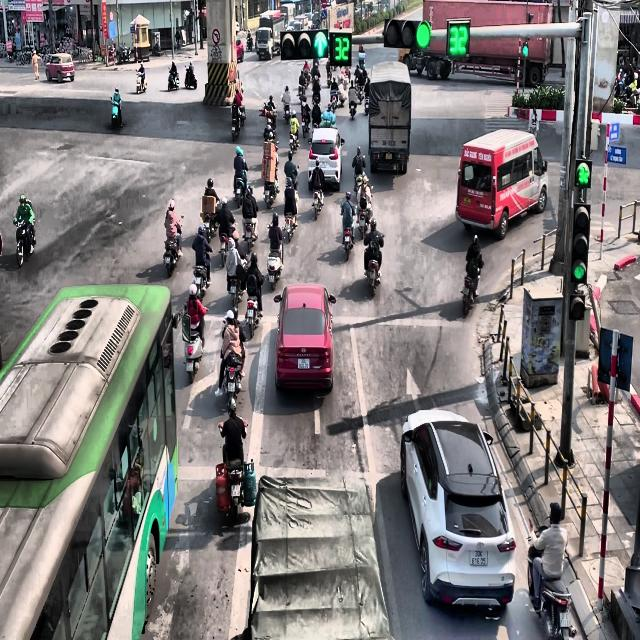lisence_plate: (469, 548, 488, 566), (558, 609, 571, 628), (297, 357, 310, 370), (382, 138, 398, 146), (463, 196, 472, 206), (384, 152, 394, 160), (320, 160, 328, 168)
